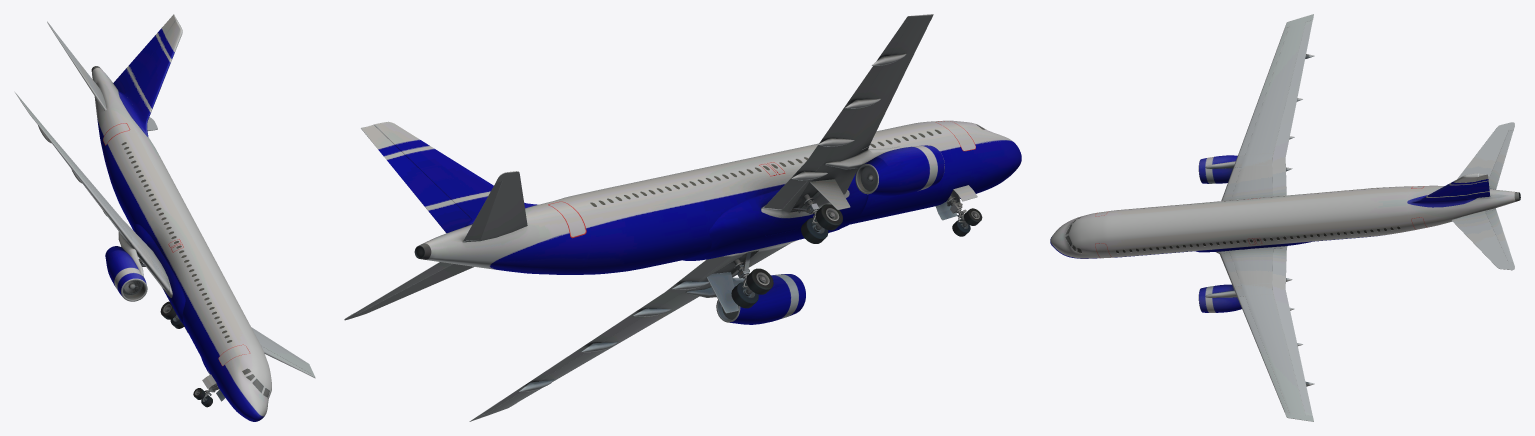
3 views of the same model, side by side, from view 1: azimuth 30°, elevation 25°; view 2: azimuth 150°, elevation 25°; view 3: azimuth 270°, elevation 25° (orthographic). The views are drawn at different scales.
Parts seen in each view (by area): view 1: node_id30; view 2: node_id30; view 3: node_id30.
Boxes of the visible parts, box(x1,y1,x2,y2) form: node_id30: box(14, 14, 315, 421); node_id30: box(344, 14, 1021, 421); node_id30: box(1050, 14, 1520, 421).
Bounding box in the file's own units: 0.3428 × 0.3815 × 0.5654.
Materials: 1 (1 with a texture image).
